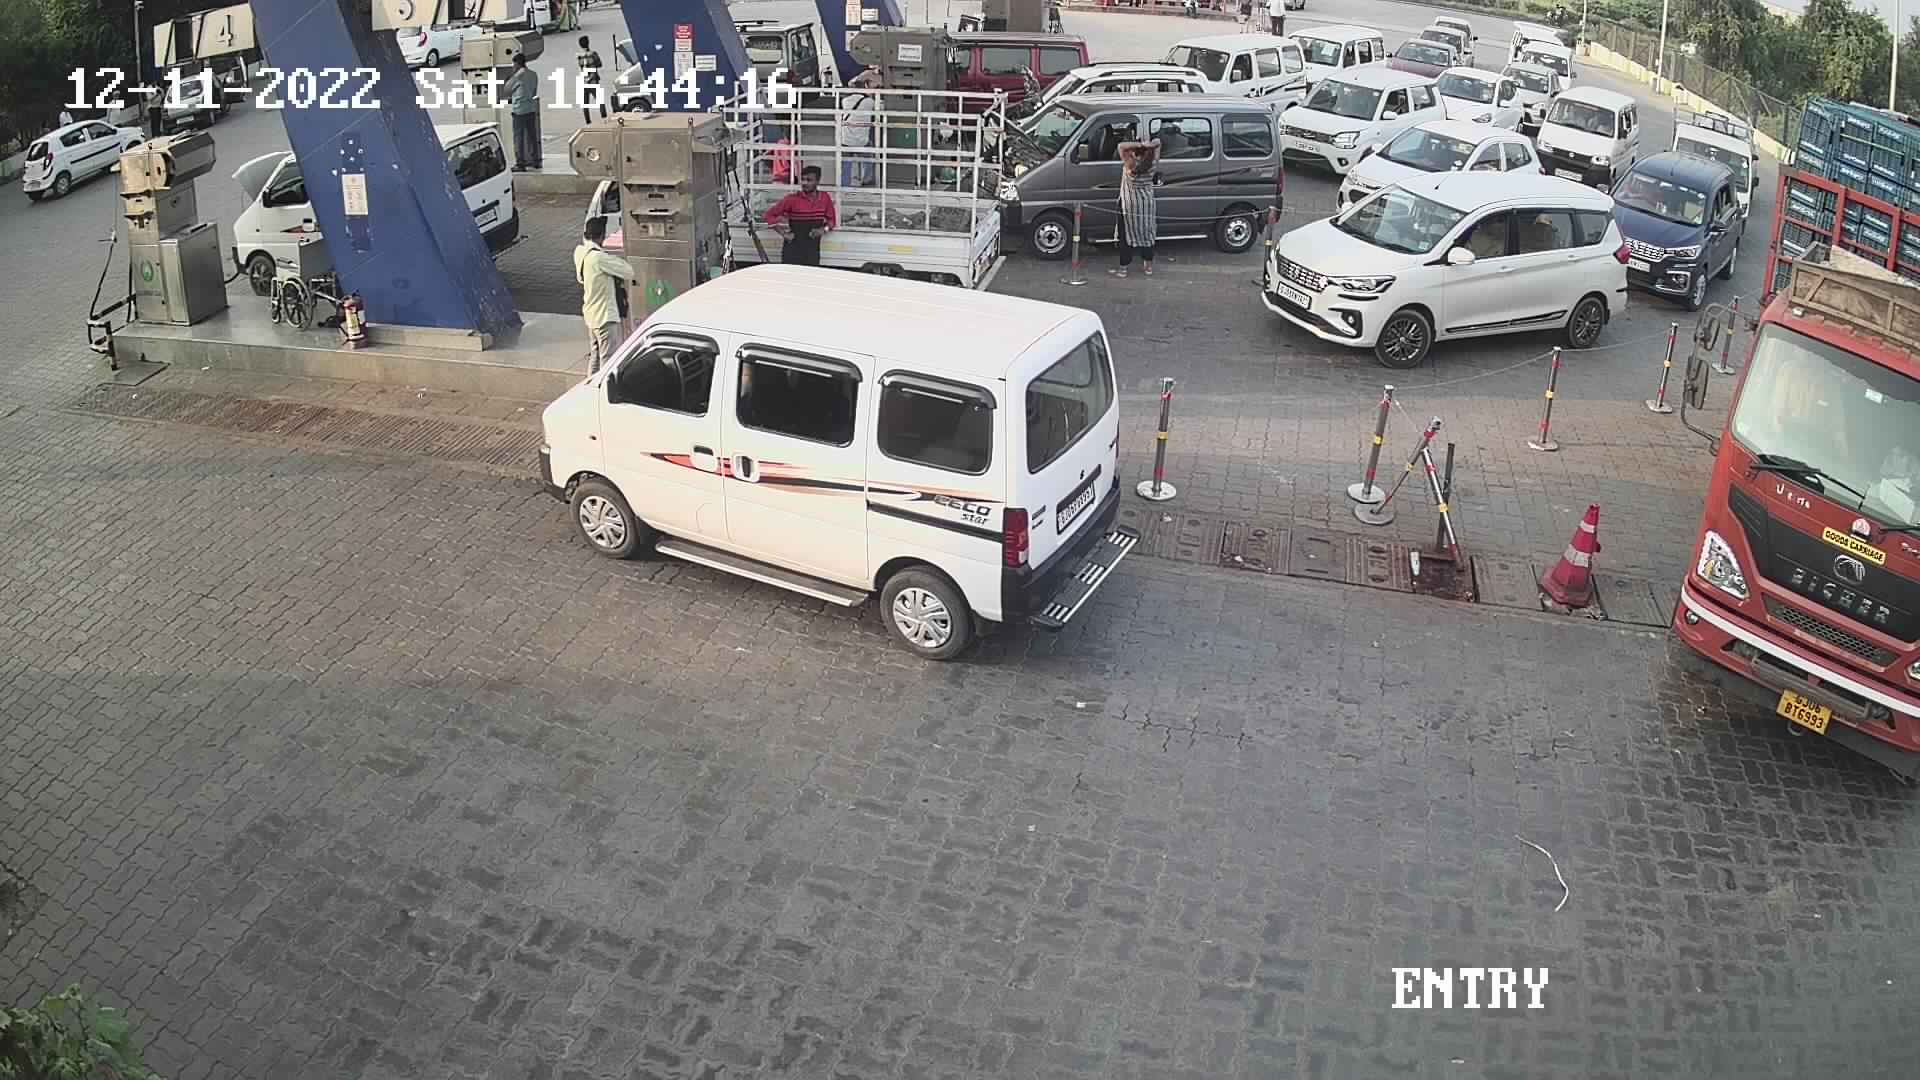Car: (533, 258, 1147, 669), (1254, 165, 1630, 373), (705, 75, 1015, 297), (223, 92, 535, 309), (992, 80, 1292, 264), (1009, 40, 1253, 167), (1597, 146, 1749, 311), (1331, 113, 1552, 214), (1269, 59, 1447, 175), (1154, 18, 1319, 136), (942, 20, 1096, 127), (1527, 76, 1646, 200), (1662, 99, 1763, 236), (18, 102, 152, 203), (735, 8, 833, 116), (1416, 55, 1534, 144), (1495, 15, 1577, 133), (1280, 13, 1393, 84), (152, 65, 243, 142), (389, 12, 498, 69), (1382, 33, 1468, 95), (1411, 12, 1489, 74)
HMV: (1660, 80, 1915, 812)
